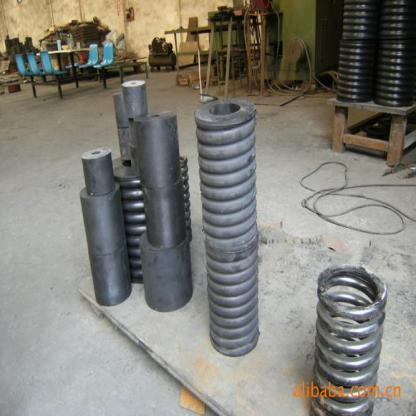FOD: (307, 260, 390, 416)
